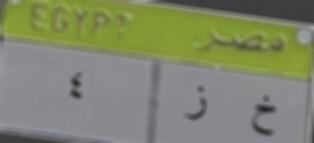4: (67, 63, 91, 106)
khaa: (242, 90, 279, 138)
zay: (183, 85, 214, 124)
